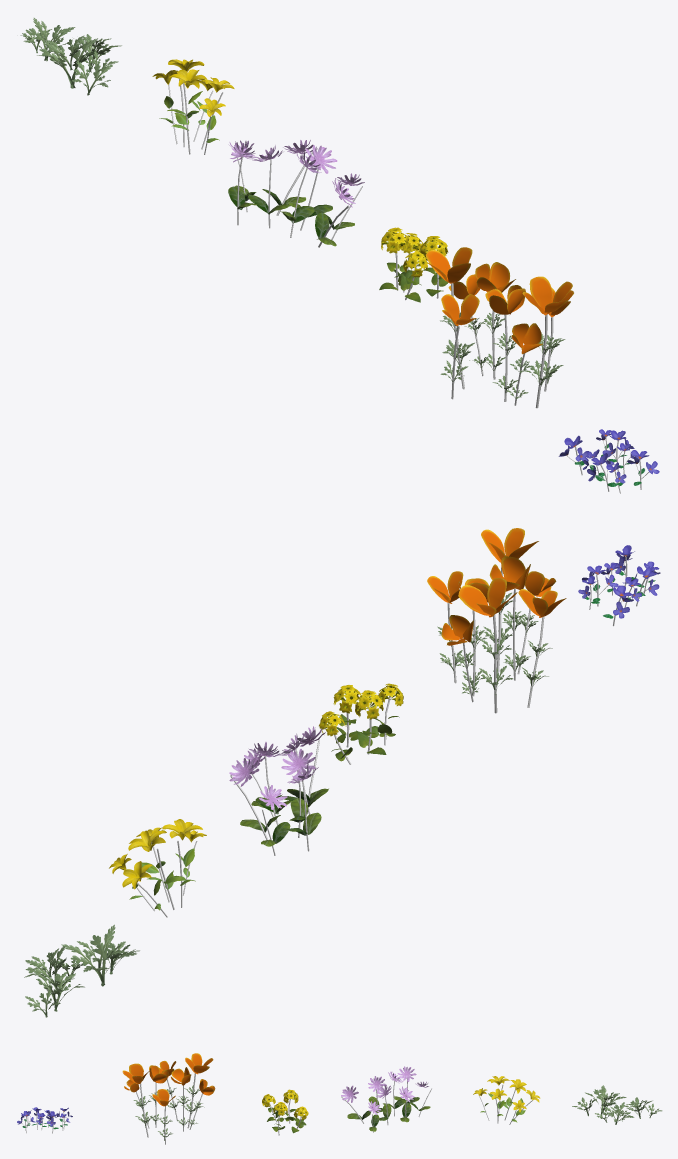
Rendered from SeparateFlowerPatches_NonPasteable.FBX.
3 renders of one model, top to bottom at view 1: azimuth 30°, elevation 25°; view 2: azimuth 150°, elevation 25°; view 3: azimuth 270°, elevation 25°, orthographic. The views are drawn at different scales.
Parts seen in each view (by area): view 1: poppyLeaf017, Poppy002, Poppy004, Poppy005; view 2: poppyLeaf017, Poppy004, Poppy003; view 3: poppyLeaf017, Poppy002, Poppy004, poppyLeaf015, poppyLeaf006, PurplePetal016, PurplePetal017, Poppy003, PurplePetal014, PoppyLeaf015.
Boxes of the visible parts, bbox=[...] form: poppyLeaf017: bbox=[37, 35, 97, 88]; Poppy002: bbox=[475, 262, 515, 292]; Poppy004: bbox=[485, 285, 525, 314]; Poppy005: bbox=[511, 323, 542, 354]; poppyLeaf017: bbox=[61, 924, 136, 986]; Poppy004: bbox=[489, 556, 530, 591]; Poppy003: bbox=[441, 615, 473, 645]; poppyLeaf017: bbox=[585, 1085, 626, 1115]; Poppy002: bbox=[171, 1067, 191, 1085]; Poppy004: bbox=[149, 1065, 168, 1083]; poppyLeaf015: bbox=[604, 1102, 634, 1124]; poppyLeaf006: bbox=[623, 1097, 652, 1118]; PurplePetal016: bbox=[368, 1076, 386, 1093]; PurplePetal017: bbox=[341, 1085, 358, 1102]; Poppy003: bbox=[199, 1079, 215, 1095]; PurplePetal014: bbox=[397, 1066, 416, 1081]; PoppyLeaf015: bbox=[129, 1063, 143, 1076].
Size of the model in its own units: 31.03 by 29.49 by 243.
Materials: 18 (18 with a texture image).
